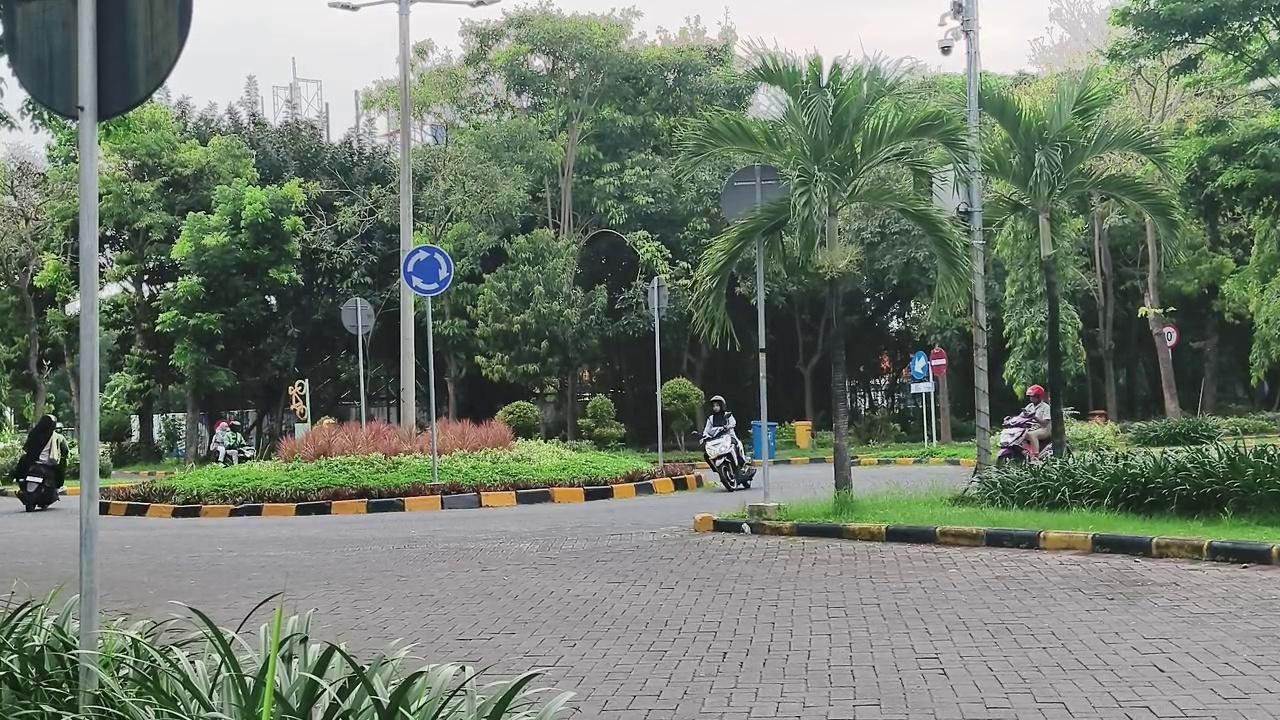Helmet: (703, 395, 753, 473), (1022, 385, 1050, 456)
Motor: (695, 432, 754, 491), (997, 414, 1054, 463), (17, 466, 58, 511), (209, 445, 255, 466)
